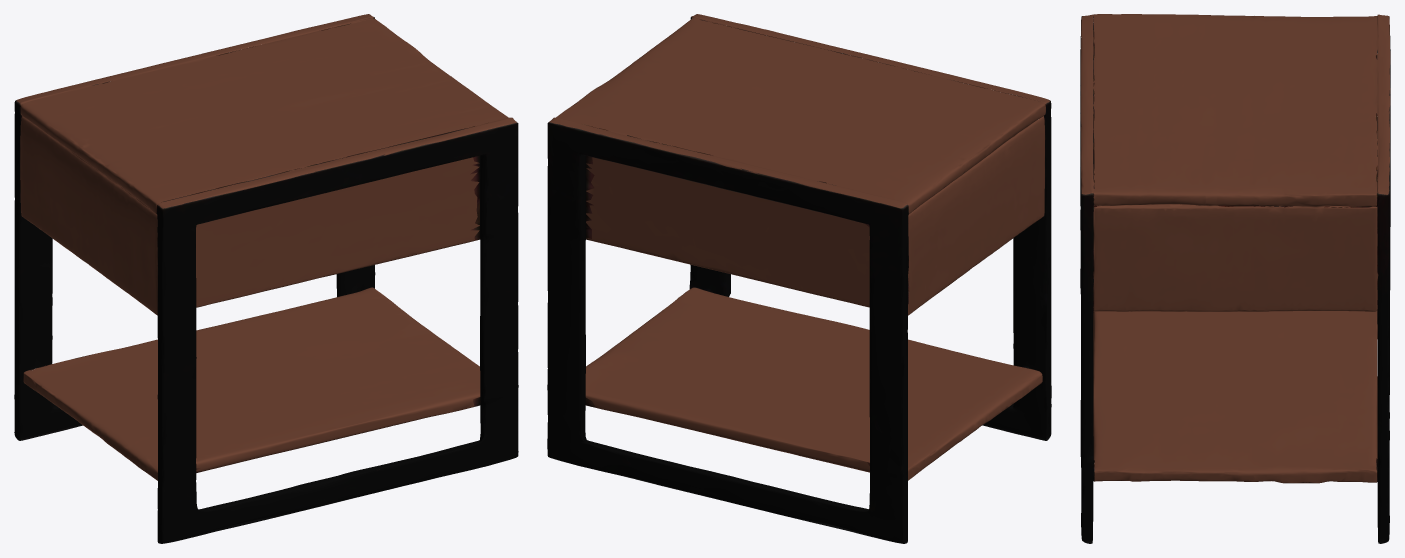
3 views of the same model, side by side, from view 1: azimuth 30°, elevation 25°; view 2: azimuth 150°, elevation 25°; view 3: azimuth 270°, elevation 25° (orthographic). The views are drawn at different scales.
Visible parts, largest first — view 1: tripo_node_3a831efa-3548-40b4-a084-d3d5c76c395d; view 2: tripo_node_3a831efa-3548-40b4-a084-d3d5c76c395d; view 3: tripo_node_3a831efa-3548-40b4-a084-d3d5c76c395d.
Boxes of the visible parts, x1,y1,x2,y2 form: tripo_node_3a831efa-3548-40b4-a084-d3d5c76c395d: [14, 14, 518, 543]; tripo_node_3a831efa-3548-40b4-a084-d3d5c76c395d: [547, 14, 1051, 543]; tripo_node_3a831efa-3548-40b4-a084-d3d5c76c395d: [1080, 14, 1390, 543].
Size of the model in its own units: 0.55 by 0.5 by 0.4.
2 materials, 1 textured.
